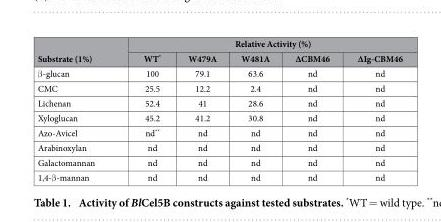table: (36, 36, 401, 183)
table column: (36, 36, 118, 183), (281, 36, 342, 183), (342, 36, 401, 183), (118, 36, 173, 183), (173, 36, 228, 183), (228, 36, 281, 183)
table column header: (36, 36, 401, 65)
table row: (36, 50, 401, 65), (36, 65, 401, 80), (36, 80, 401, 95), (36, 95, 401, 110), (36, 124, 401, 139), (36, 139, 401, 154), (36, 154, 401, 169), (36, 36, 401, 50), (36, 110, 401, 124), (36, 169, 401, 183)
table spanning cell: (118, 36, 401, 50), (36, 36, 118, 65)
